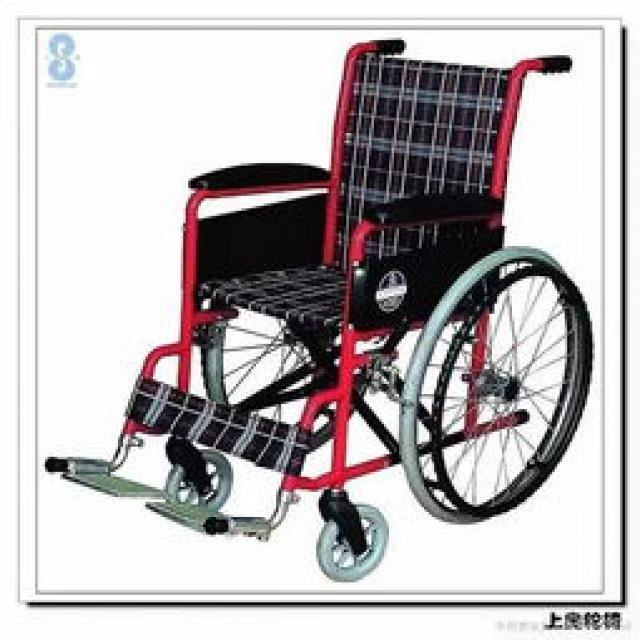wheelchair: (45, 28, 590, 588)
